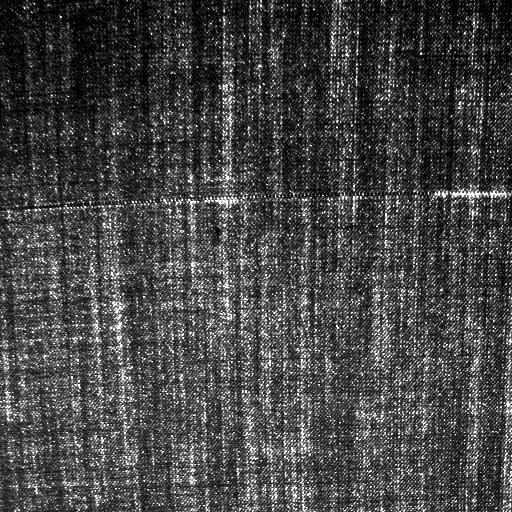fabric_broken_pick: (130, 182, 504, 204)
